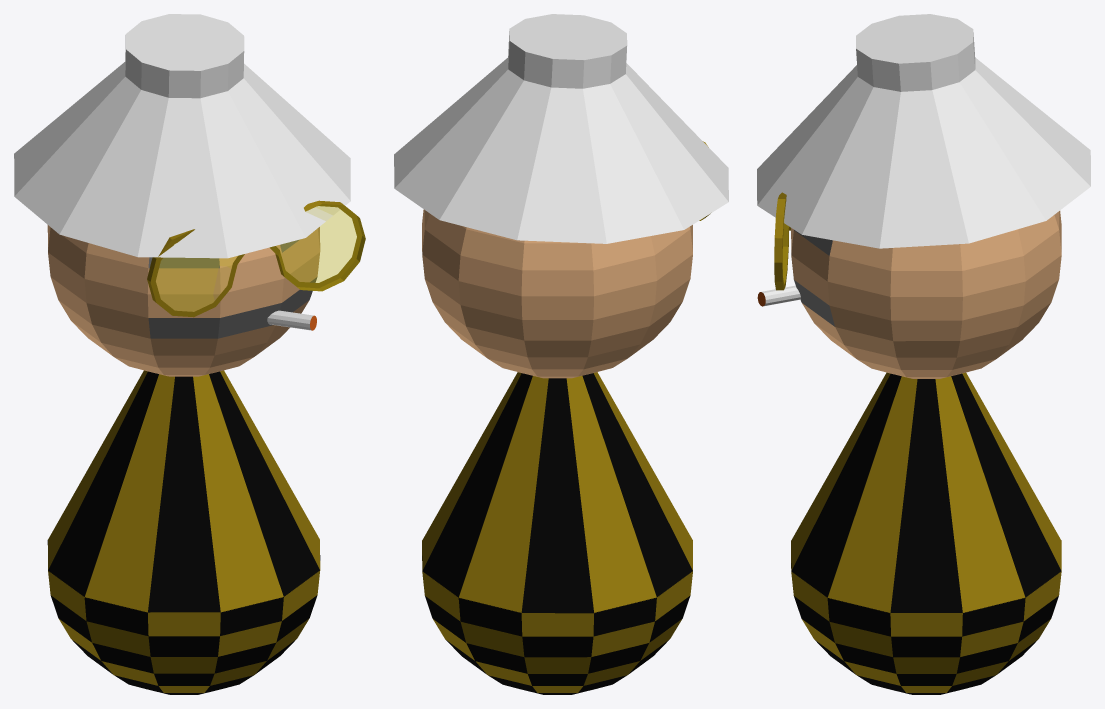
The model's file is DrugConsumer 1.glb.
3 views of the same model, side by side, from view 1: azimuth 30°, elevation 25°; view 2: azimuth 150°, elevation 25°; view 3: azimuth 270°, elevation 25° (orthographic).
Visible parts, largest first — view 1: Цилиндр.002; view 2: Цилиндр.002; view 3: Цилиндр.002.
Part boxes in pixels (left/top/right/bottom): Цилиндр.002: left=14, top=14, right=365, bottom=694; Цилиндр.002: left=394, top=14, right=728, bottom=694; Цилиндр.002: left=757, top=14, right=1090, bottom=694.
Bounding box in the file's own units: 2.39 × 5.08 × 2.38.
